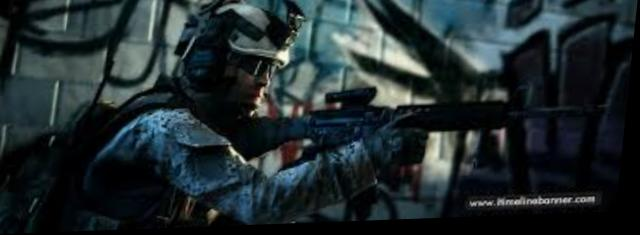other: (110, 0, 357, 224)
